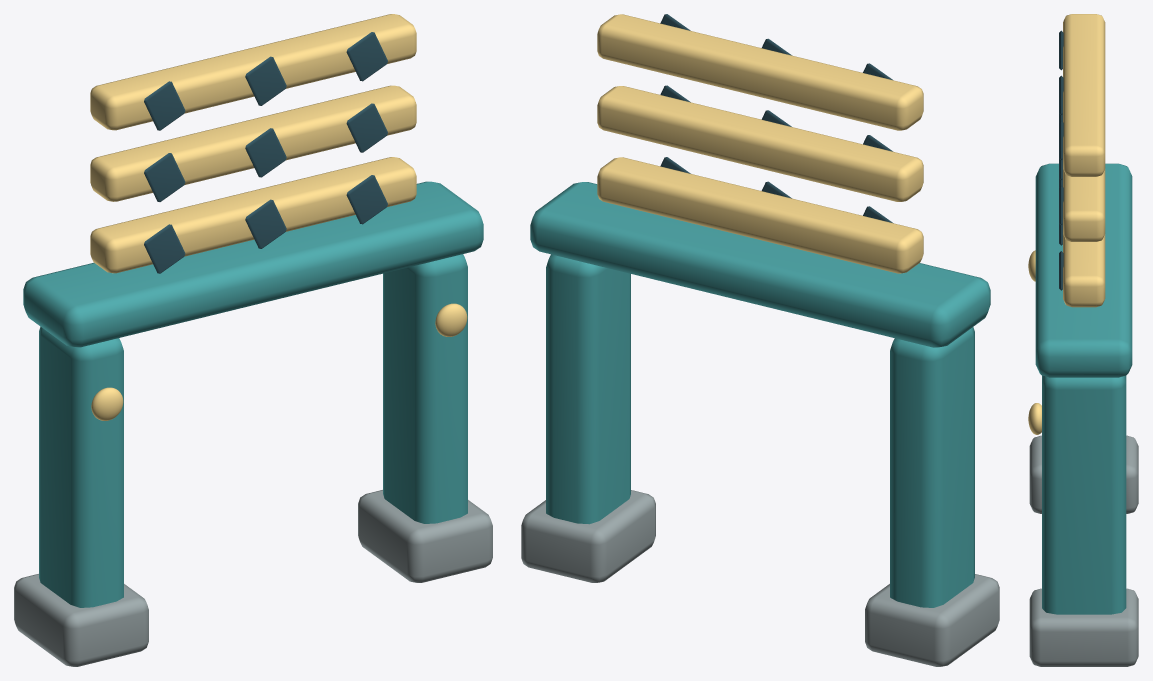
The model's file is city_gate.glb.
The picture shows the model from 3 angles, left to right: view 1: azimuth 30°, elevation 25°; view 2: azimuth 150°, elevation 25°; view 3: azimuth 270°, elevation 25°; orthographic projection. The views are drawn at different scales.
Parts seen in each view (by area): view 1: Freight gate upper gantry, Freight lifting barrier pillar, Freight lifting barrier pillar.001, Freight gate safety bar.001, Freight gate safety bar, Freight gate safety bar.002, Freight barrier column foot, Freight barrier column foot.001, Freight gate safety bar diagonal marking.001, Freight gate safety bar diagonal marking.005, Freight gate safety bar diagonal marking.007, Freight gate safety bar diagonal marking (+7 smaller); view 2: Freight gate upper gantry, Freight lifting barrier pillar, Freight lifting barrier pillar.001, Freight gate safety bar, Freight gate safety bar.002, Freight gate safety bar.001, Freight barrier column foot, Freight barrier column foot.001; view 3: Freight lifting barrier pillar.001, Freight gate upper gantry, Freight gate safety bar.002, Freight barrier column foot.001, Freight gate safety bar, Freight gate safety bar.001, Freight barrier column foot, Freight pillar signal.001, Freight pillar signal.
Boxes of the visible parts, box(x1,y1,x2,y2) form: Freight gate upper gantry: box(23, 181, 483, 347); Freight lifting barrier pillar: box(39, 326, 123, 607); Freight lifting barrier pillar.001: box(383, 254, 467, 523); Freight gate safety bar.001: box(90, 85, 416, 201); Freight gate safety bar: box(90, 157, 416, 273); Freight gate safety bar.002: box(90, 14, 416, 130); Freight barrier column foot: box(14, 574, 148, 666); Freight barrier column foot.001: box(358, 490, 492, 582); Freight gate safety bar diagonal marking.001: box(245, 199, 286, 248); Freight gate safety bar diagonal marking.005: box(346, 103, 387, 152); Freight gate safety bar diagonal marking.007: box(245, 56, 286, 105); Freight gate safety bar diagonal marking: box(144, 224, 185, 273); Freight gate upper gantry: box(530, 182, 990, 347); Freight lifting barrier pillar: box(890, 327, 974, 607); Freight lifting barrier pillar.001: box(546, 254, 630, 524); Freight gate safety bar: box(597, 157, 923, 273); Freight gate safety bar.002: box(597, 14, 923, 130); Freight gate safety bar.001: box(597, 86, 923, 201); Freight barrier column foot: box(865, 574, 999, 666); Freight barrier column foot.001: box(521, 490, 655, 582); Freight lifting barrier pillar.001: box(1042, 375, 1126, 614); Freight gate upper gantry: box(1035, 163, 1132, 377); Freight gate safety bar.002: box(1063, 14, 1105, 176); Freight barrier column foot.001: box(1029, 588, 1138, 666); Freight gate safety bar: box(1063, 234, 1105, 307); Freight gate safety bar.001: box(1063, 169, 1105, 241); Freight barrier column foot: box(1029, 435, 1138, 513); Freight pillar signal.001: box(1028, 403, 1041, 434); Freight pillar signal: box(1028, 250, 1035, 281).
Bounding box in the file's own units: 1.82 × 2.24 × 0.445.
